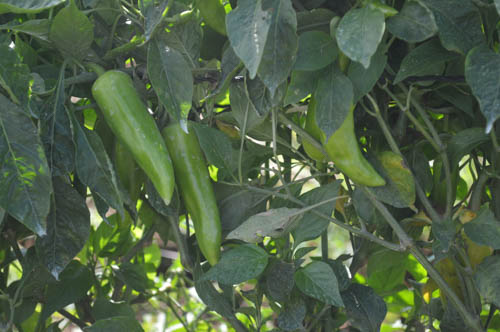ChiliPepper: (92, 71, 174, 204), (164, 121, 223, 263), (325, 108, 385, 187), (106, 146, 138, 237), (299, 104, 325, 167)
